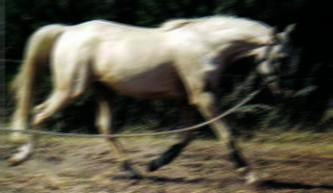horse: (4, 13, 299, 183)
